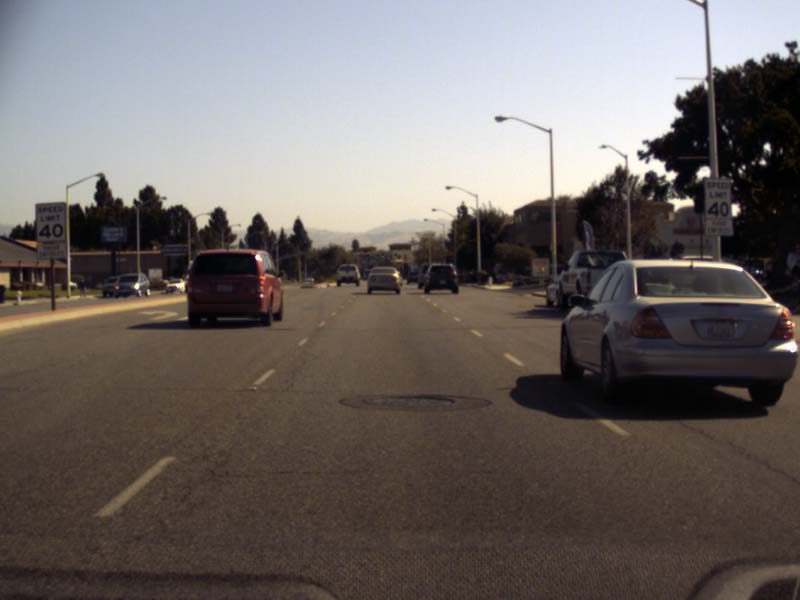Green: (380, 252, 384, 260)
